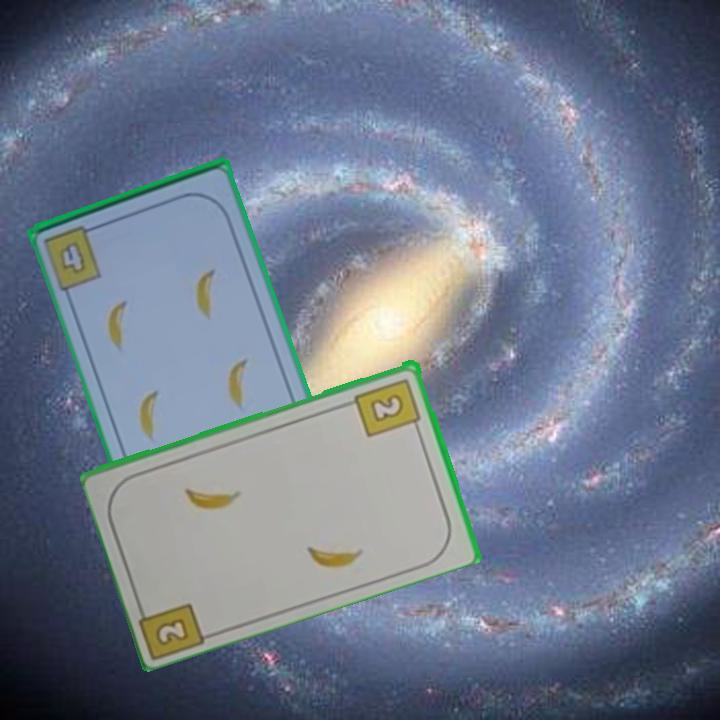2b: (351, 374, 424, 439), (152, 614, 192, 649)
4b: (56, 238, 89, 278)
